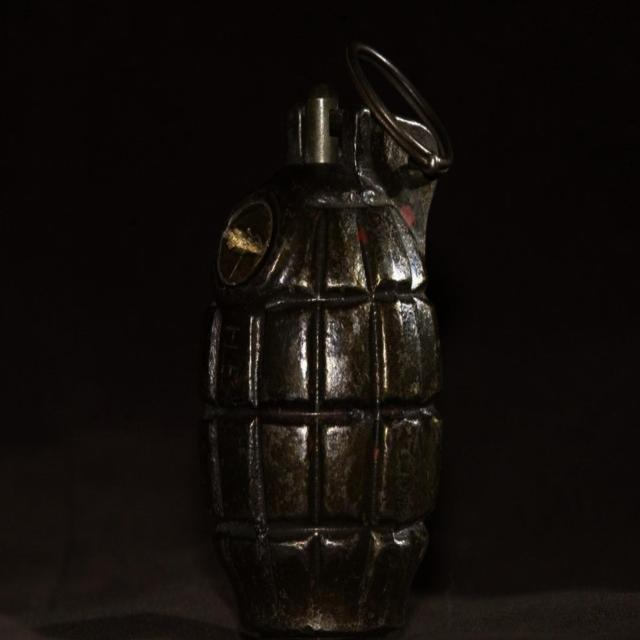grenade: (201, 43, 452, 640)
